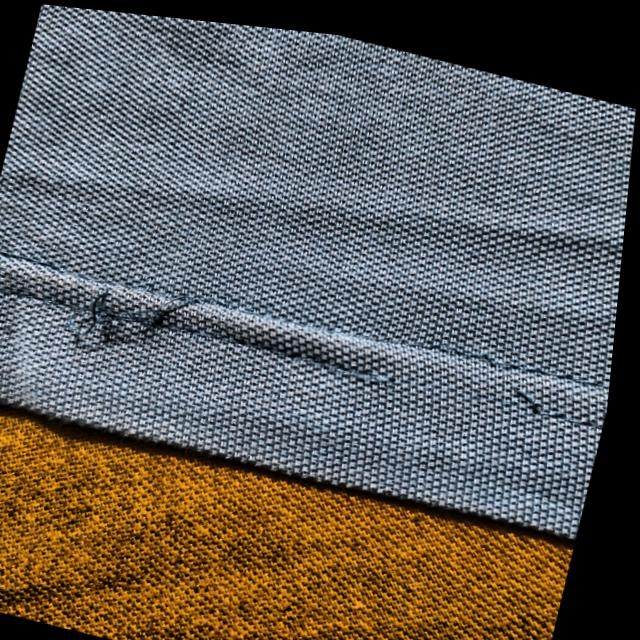Stitch: (284, 273, 584, 452), (36, 234, 249, 385)
